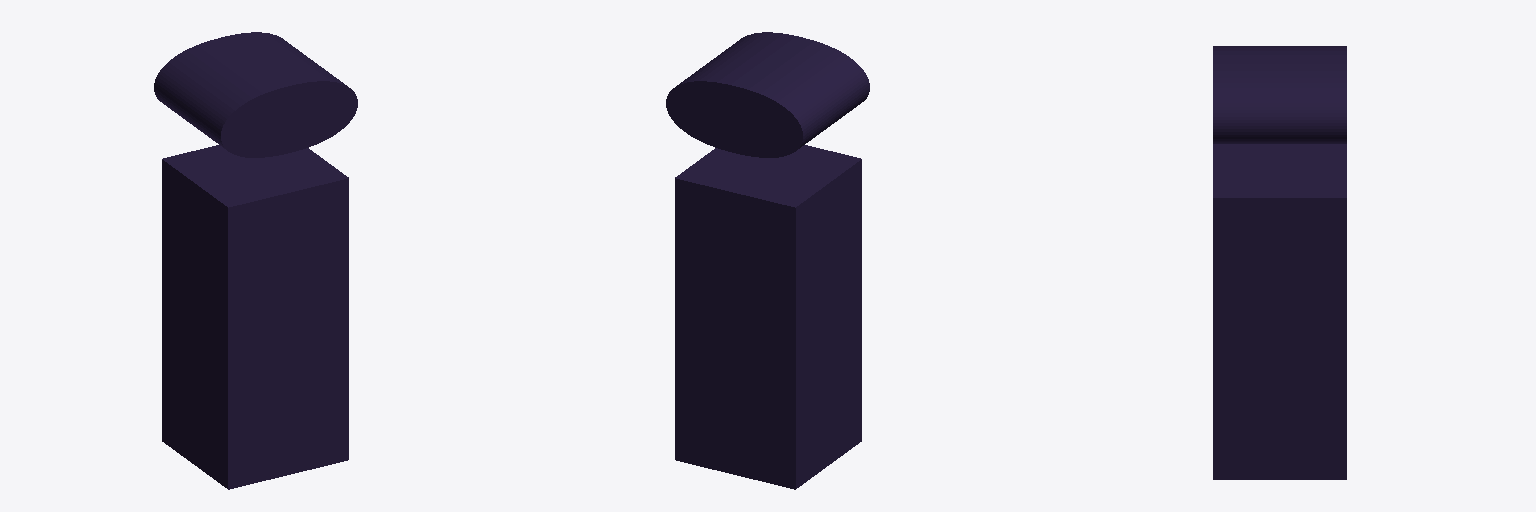
The model's file is info.obj.
The picture shows the model from 3 angles: view 1: azimuth 30°, elevation 25°; view 2: azimuth 150°, elevation 25°; view 3: azimuth 270°, elevation 25°; orthographic projection.
Visible parts, largest first — view 1: i; view 2: i; view 3: i.
Part boxes in pixels (x1,y1,x2,y2): i: (154, 32, 357, 489); i: (666, 32, 869, 489); i: (1213, 46, 1346, 479).
Size of the model in its own units: 47.37 by 128 by 40.